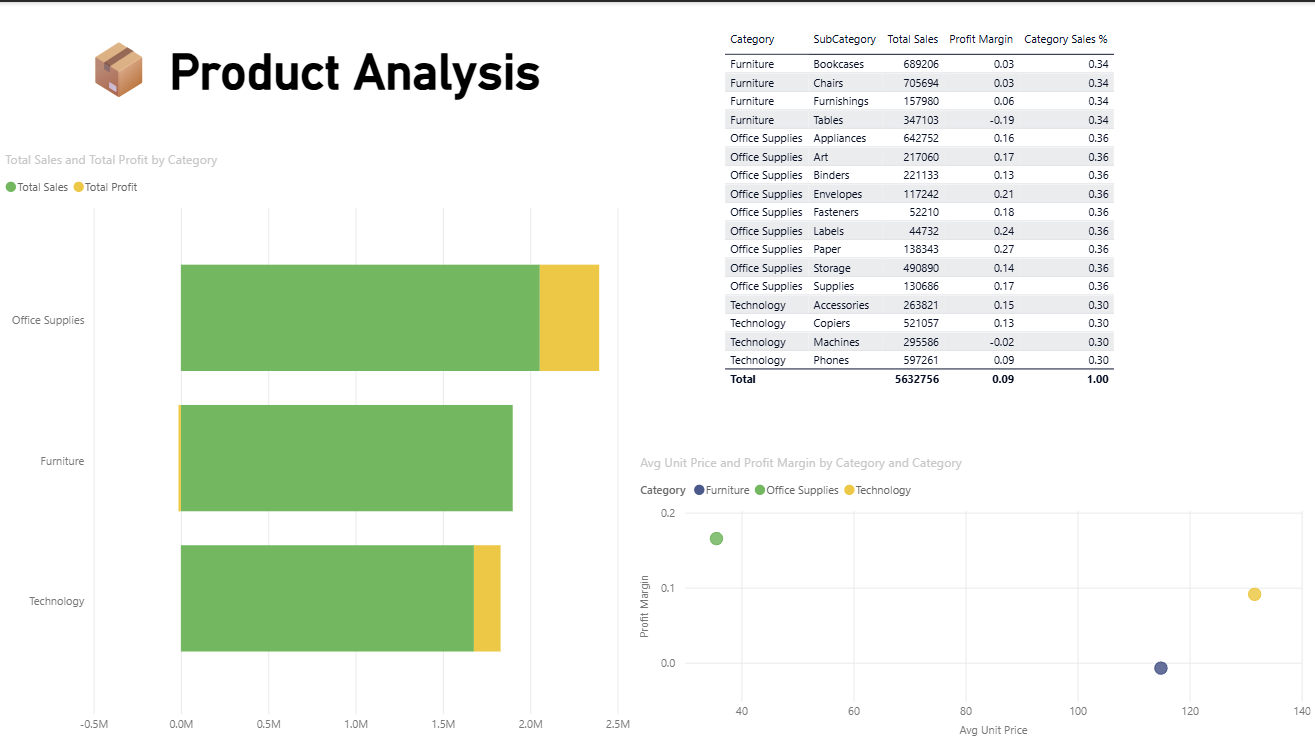

This screenshot's page, from the dashboard's own definition file:
{"tool":"powerbi","page":{"name":"📦 Products","canvas":[1280,720],"ordinal":1},"visuals":[{"type":"barChart","fields":{"Category":["DimProduct.Category"],"Y":["Fact_Sales.Total Sales","Fact_Sales.Total Profit"]},"box":[0,144.9,617.6,574.8],"z":0},{"type":"tableEx","fields":{"Values":["DimProduct.Category","DimProduct.SubCategory","Fact_Sales.Total Sales","Fact_Sales.Profit Margin","Fact_Sales.Category Sales %"]},"box":[699.3,21.4,533,401.7],"z":1000},{"type":"scatterChart","fields":{"Category":["DimProduct.Category"],"X":["Fact_Sales.Avg Unit Price"],"Y":["Fact_Sales.Profit Margin"],"Series":["DimProduct.Category"]},"box":[617.6,439.6,662.4,280.1],"z":2000},{"type":"textbox","box":[23.3,21.4,570.9,123.5],"z":3000}]}

Visuals, with their boxes in screenshot pixels (x1, y1, x2, y2), scaled from the page's 1280x720 canvas onto the 1315x742 screenshot:
barChart - DimProduct.Category x Fact_Sales.Total Sales: 0 149 634 741
tableEx - DimProduct.Category x DimProduct.SubCategory: 718 22 1266 436
scatterChart - DimProduct.Category x Fact_Sales.Avg Unit Price: 634 453 1314 741
textbox: 24 22 610 149
